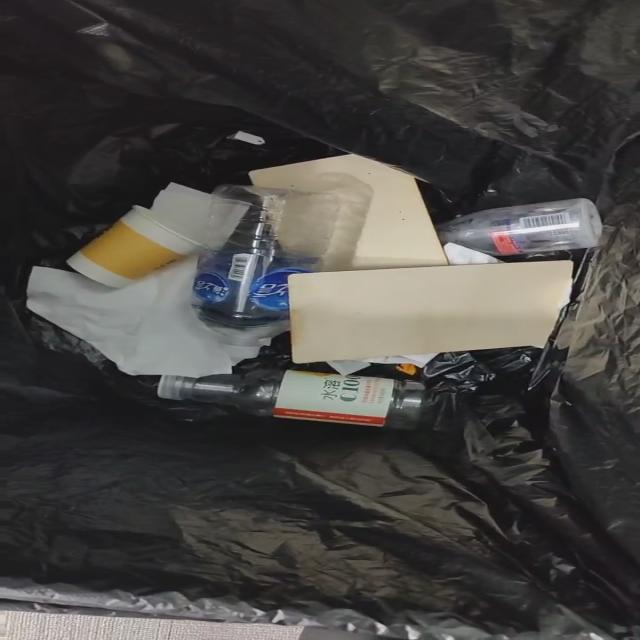bottle: (193, 186, 316, 364), (157, 366, 444, 430), (437, 198, 602, 258)
carton: (289, 260, 572, 362), (249, 154, 448, 272)
dixie_cup: (67, 206, 204, 288)
paper: (27, 258, 238, 378), (149, 184, 219, 240), (326, 353, 436, 376), (444, 242, 499, 264), (451, 244, 479, 262)
